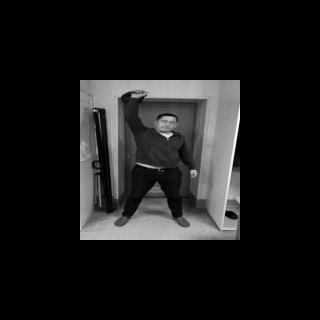kettlebell: (121, 91, 148, 104)
